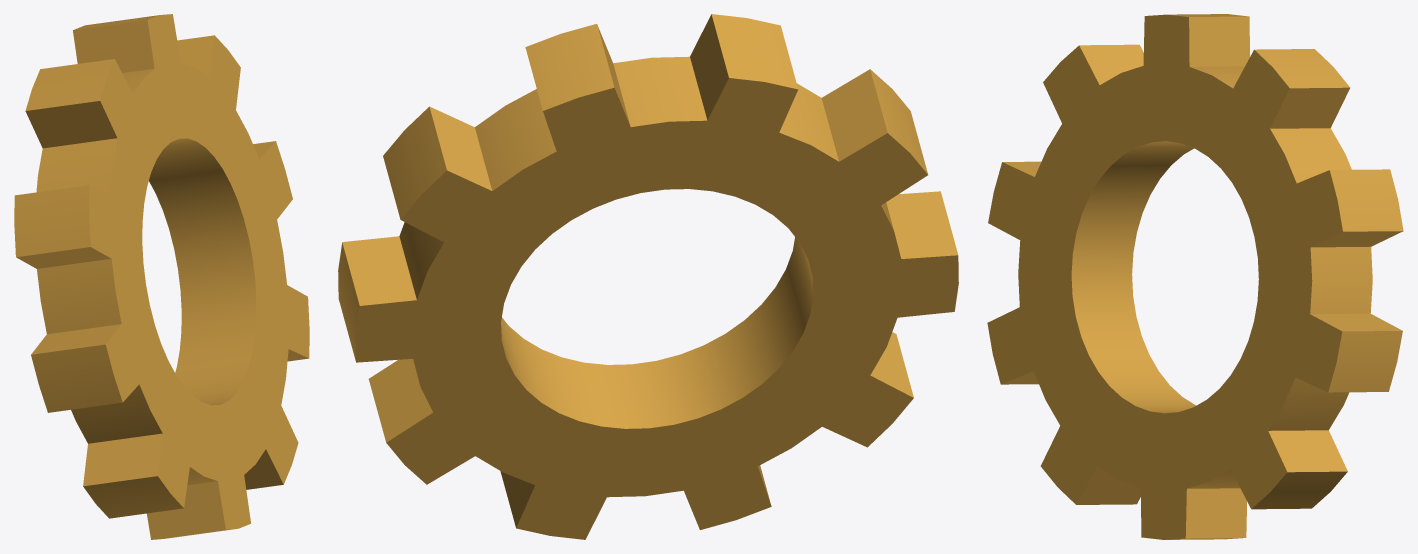
The model's file is gear.glb.
3 renders of one model, left to right at view 1: azimuth 30°, elevation 25°; view 2: azimuth 150°, elevation 25°; view 3: azimuth 270°, elevation 25°, orthographic. The views are drawn at different scales.
Parts seen in each view (by area): view 1: Collectible_Gear; view 2: Collectible_Gear; view 3: Collectible_Gear.
Boxes of the visible parts, <box> form: Collectible_Gear: <box>14,14,309,539</box>; Collectible_Gear: <box>338,14,958,539</box>; Collectible_Gear: <box>987,14,1403,539</box>.
Bounding box in the file's own units: 1.33 × 1.5 × 1.2.
